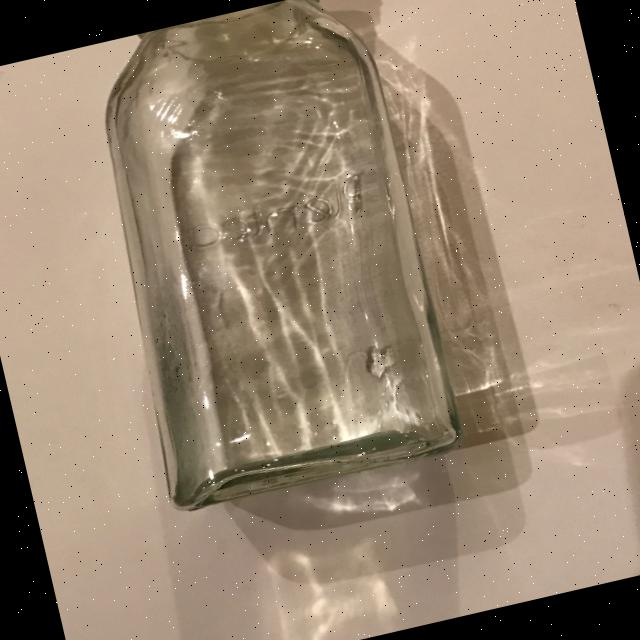glass: (65, 0, 467, 515)
